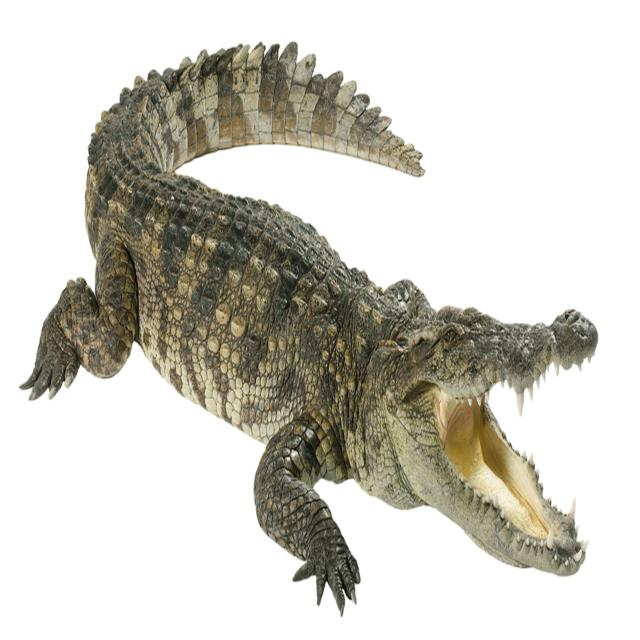crocodile: (8, 13, 622, 640)
